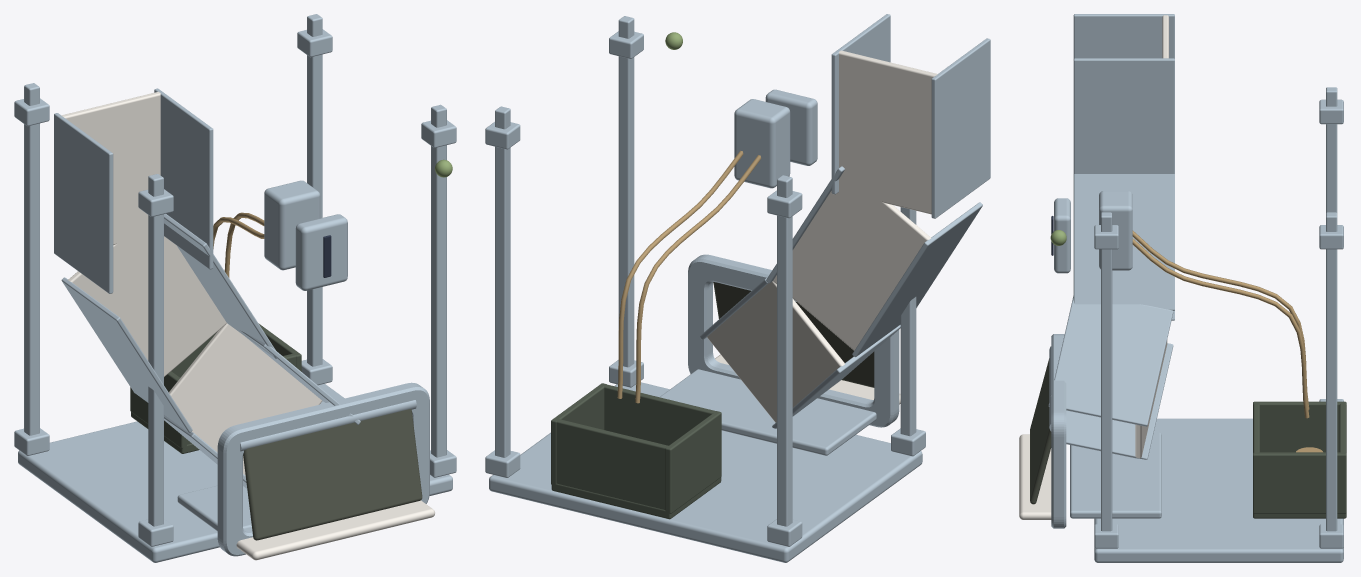
File: machine-sky-core-study.prefab.glb
3 renders of one model, left to right at view 1: azimuth 30°, elevation 25°; view 2: azimuth 150°, elevation 25°; view 3: azimuth 270°, elevation 25°, orthographic. The views are drawn at different scales.
Parts seen in each view (by area): view 1: PaperCapsuleMachine_Batch0, PaperCapsuleMachine_Batch1, OutletFlap_Batch0; view 2: PaperCapsuleMachine_Batch0, PaperCapsuleMachine_Batch1, OutletFlap_Batch0; view 3: PaperCapsuleMachine_Batch0, PaperCapsuleMachine_Batch1, OutletFlap_Batch0.
Part boxes in pixels (x1,y1,x2,y2): PaperCapsuleMachine_Batch0: (14, 14, 456, 562); PaperCapsuleMachine_Batch1: (61, 91, 452, 560); OutletFlap_Batch0: (243, 409, 422, 540); PaperCapsuleMachine_Batch0: (485, 14, 990, 562); PaperCapsuleMachine_Batch1: (551, 32, 937, 519); OutletFlap_Batch0: (713, 282, 874, 387); PaperCapsuleMachine_Batch0: (1048, 14, 1343, 562); PaperCapsuleMachine_Batch1: (1019, 15, 1346, 519); OutletFlap_Batch0: (1030, 358, 1051, 504).
Size of the model in its own units: 0.2008 by 0.231 by 0.1745.
Materials: 2 (2 with a texture image).
